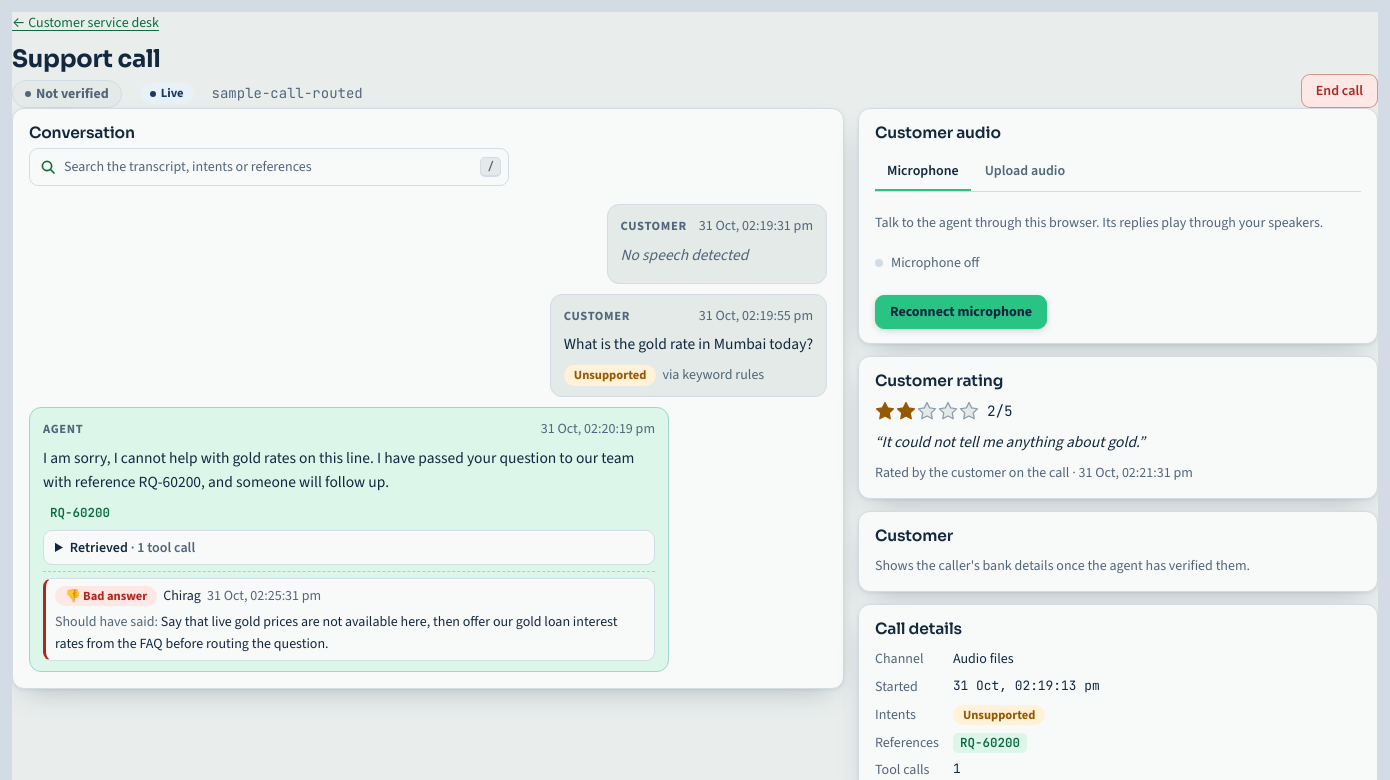
SupportCall polling › polls every second while the microphone is live, then slowly after Stop
Click the button "Reconnect microphone" at x=961, y=312, box [875,295,1047,329]
Wait 5000 ms
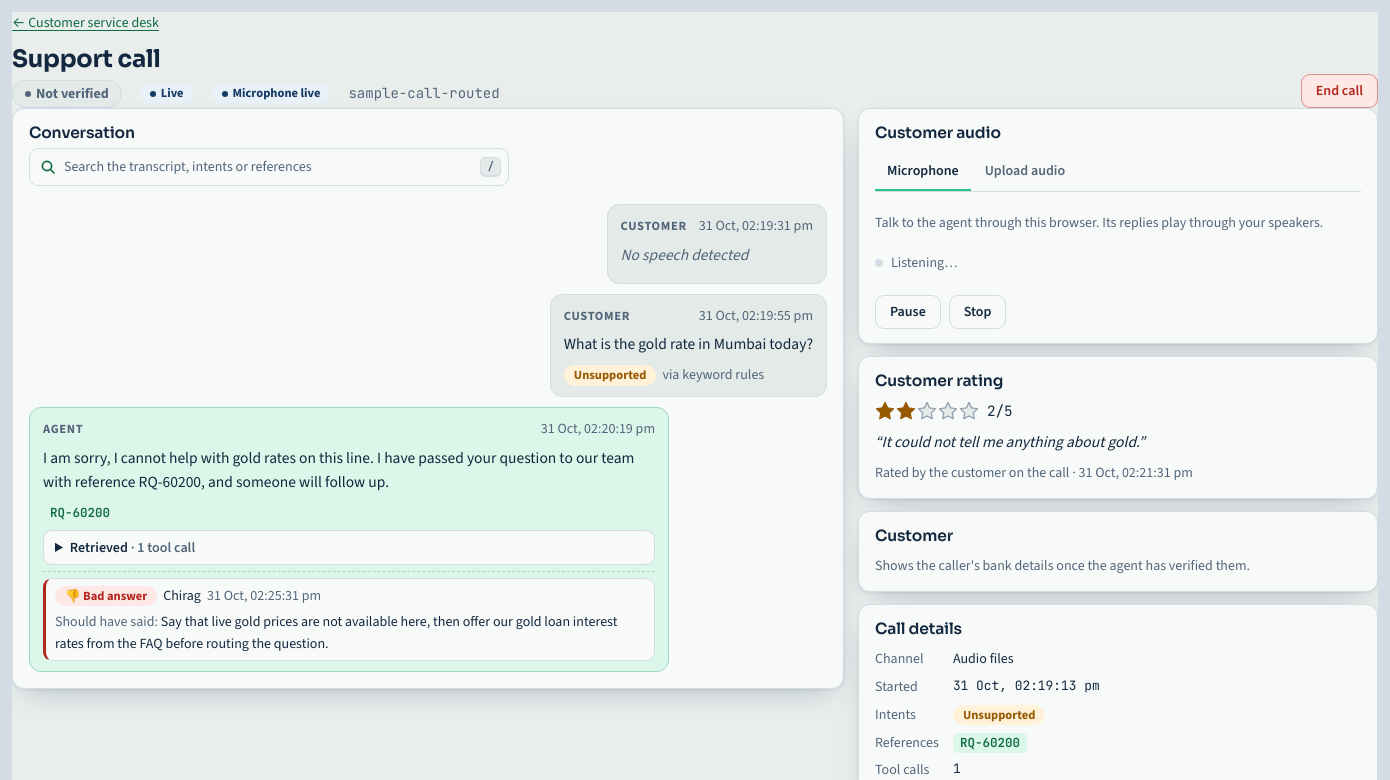
Result: the text "Microphone live" is shown at [212,83,330,104]
Click the button "Stop" at x=978, y=312, box [949,295,1006,329]
Wait 12000 ms
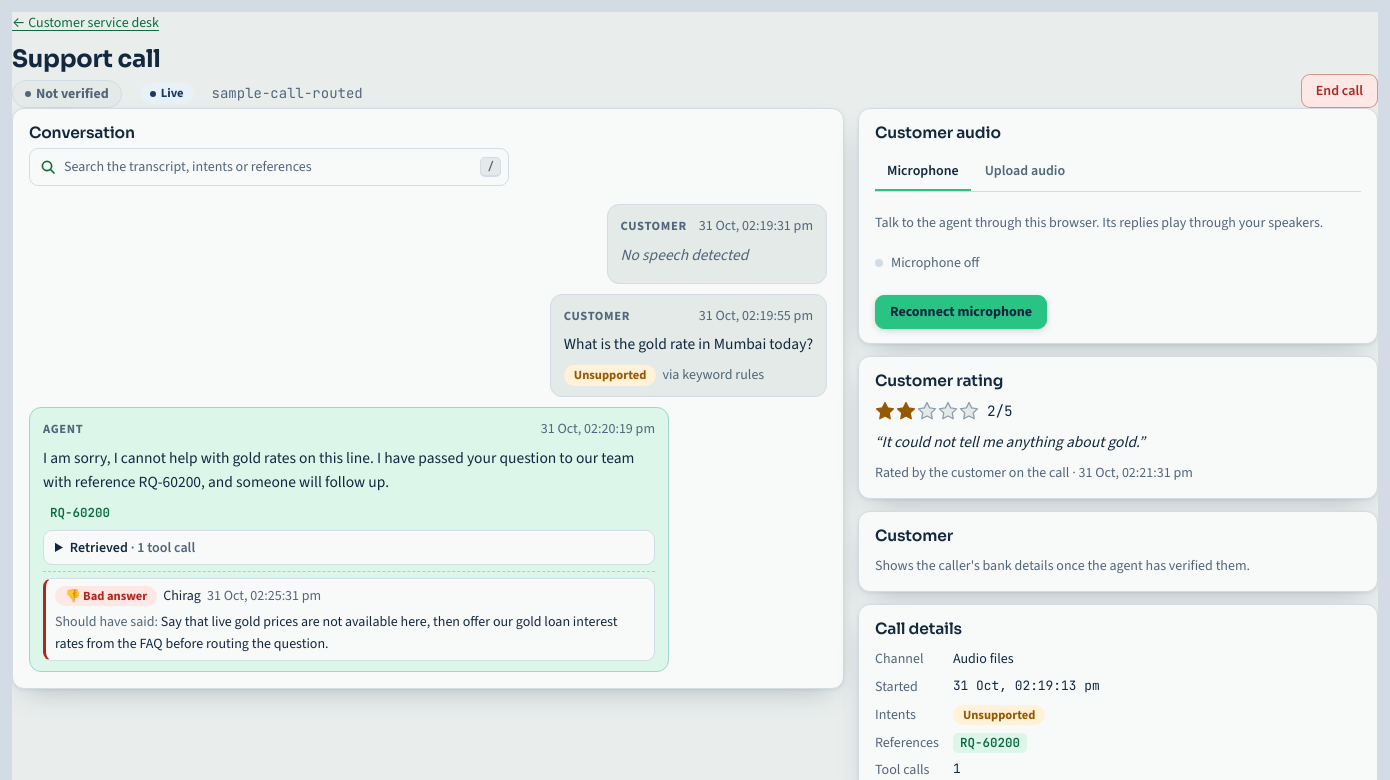
Result: the button "Reconnect microphone" is shown at [875,295,1047,329]
